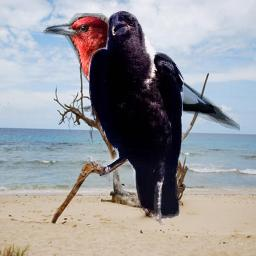Crow: (87, 9, 185, 225)
Woodpecker: (41, 13, 240, 132)
